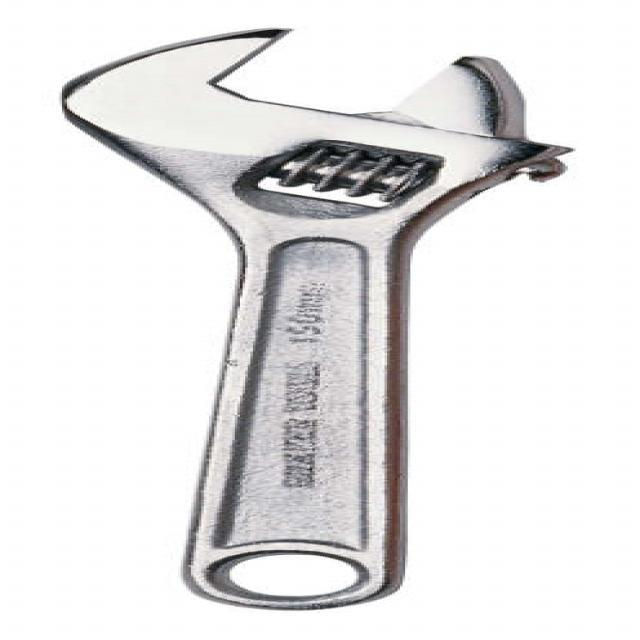wrench: (44, 25, 584, 614)
